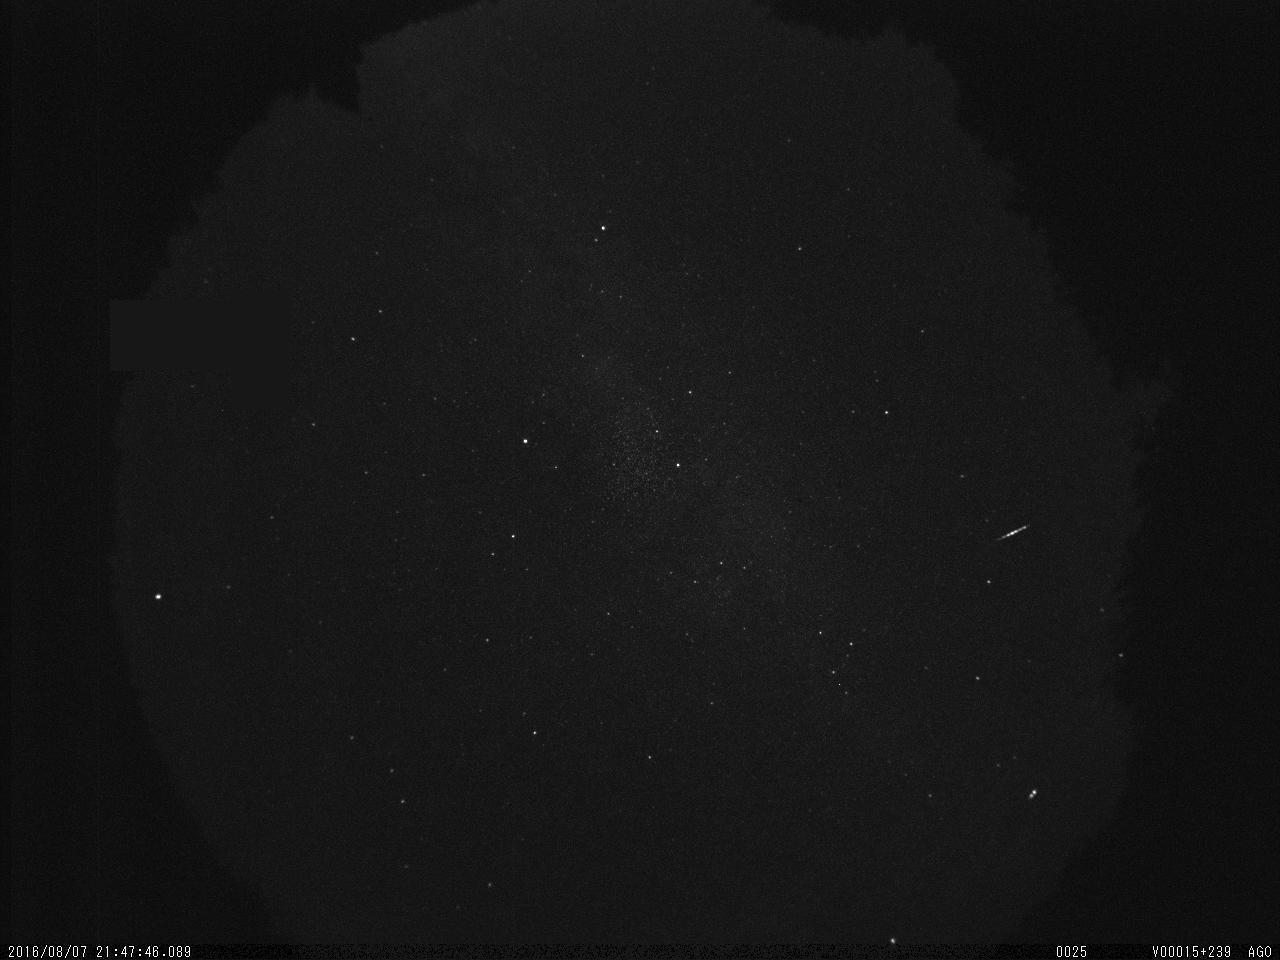Meteor: (993, 521, 1029, 542)
